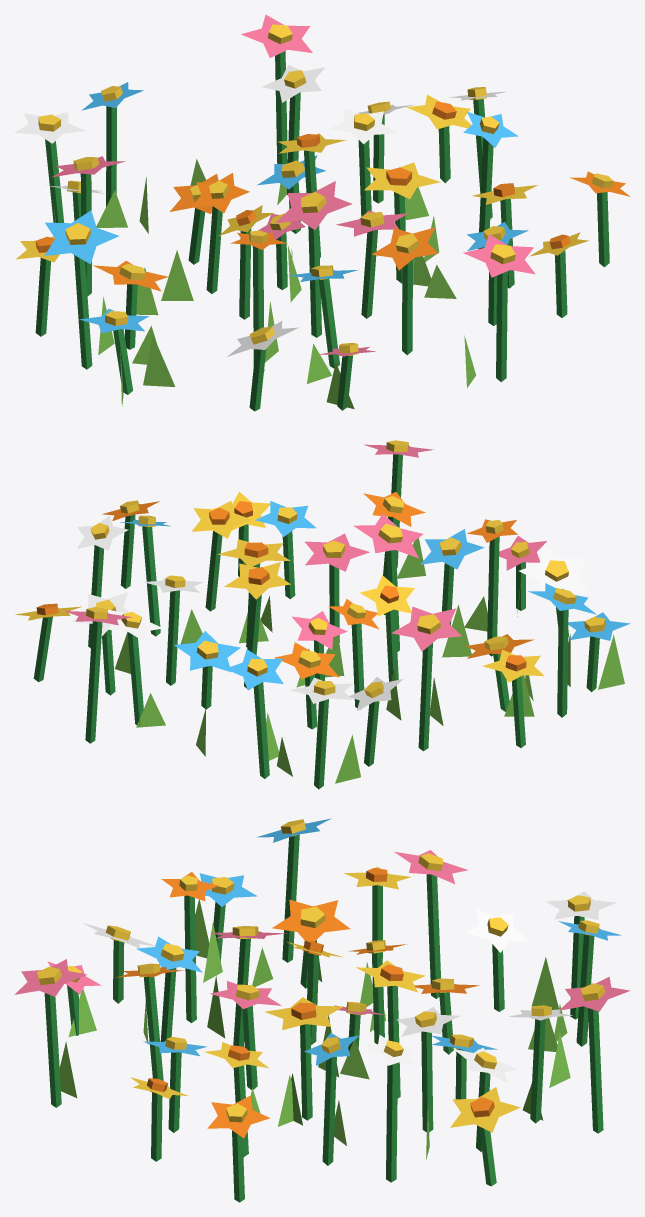
Rendered from flower_patch.glb.
3 renders of one model, top to bottom at view 1: azimuth 30°, elevation 25°; view 2: azimuth 150°, elevation 25°; view 3: azimuth 270°, elevation 25°, orthographic. The views are drawn at different scales.
Visible parts, largest first — view 1: flower_patch; view 2: flower_patch; view 3: flower_patch.
Boxes of the visible parts, left/top/right/bottom form: flower_patch: left=14, top=15, right=630, bottom=411; flower_patch: left=15, top=440, right=630, bottom=789; flower_patch: left=14, top=818, right=629, bottom=1202.
Size of the model in its own units: 3.14 by 0.7733 by 3.02.
